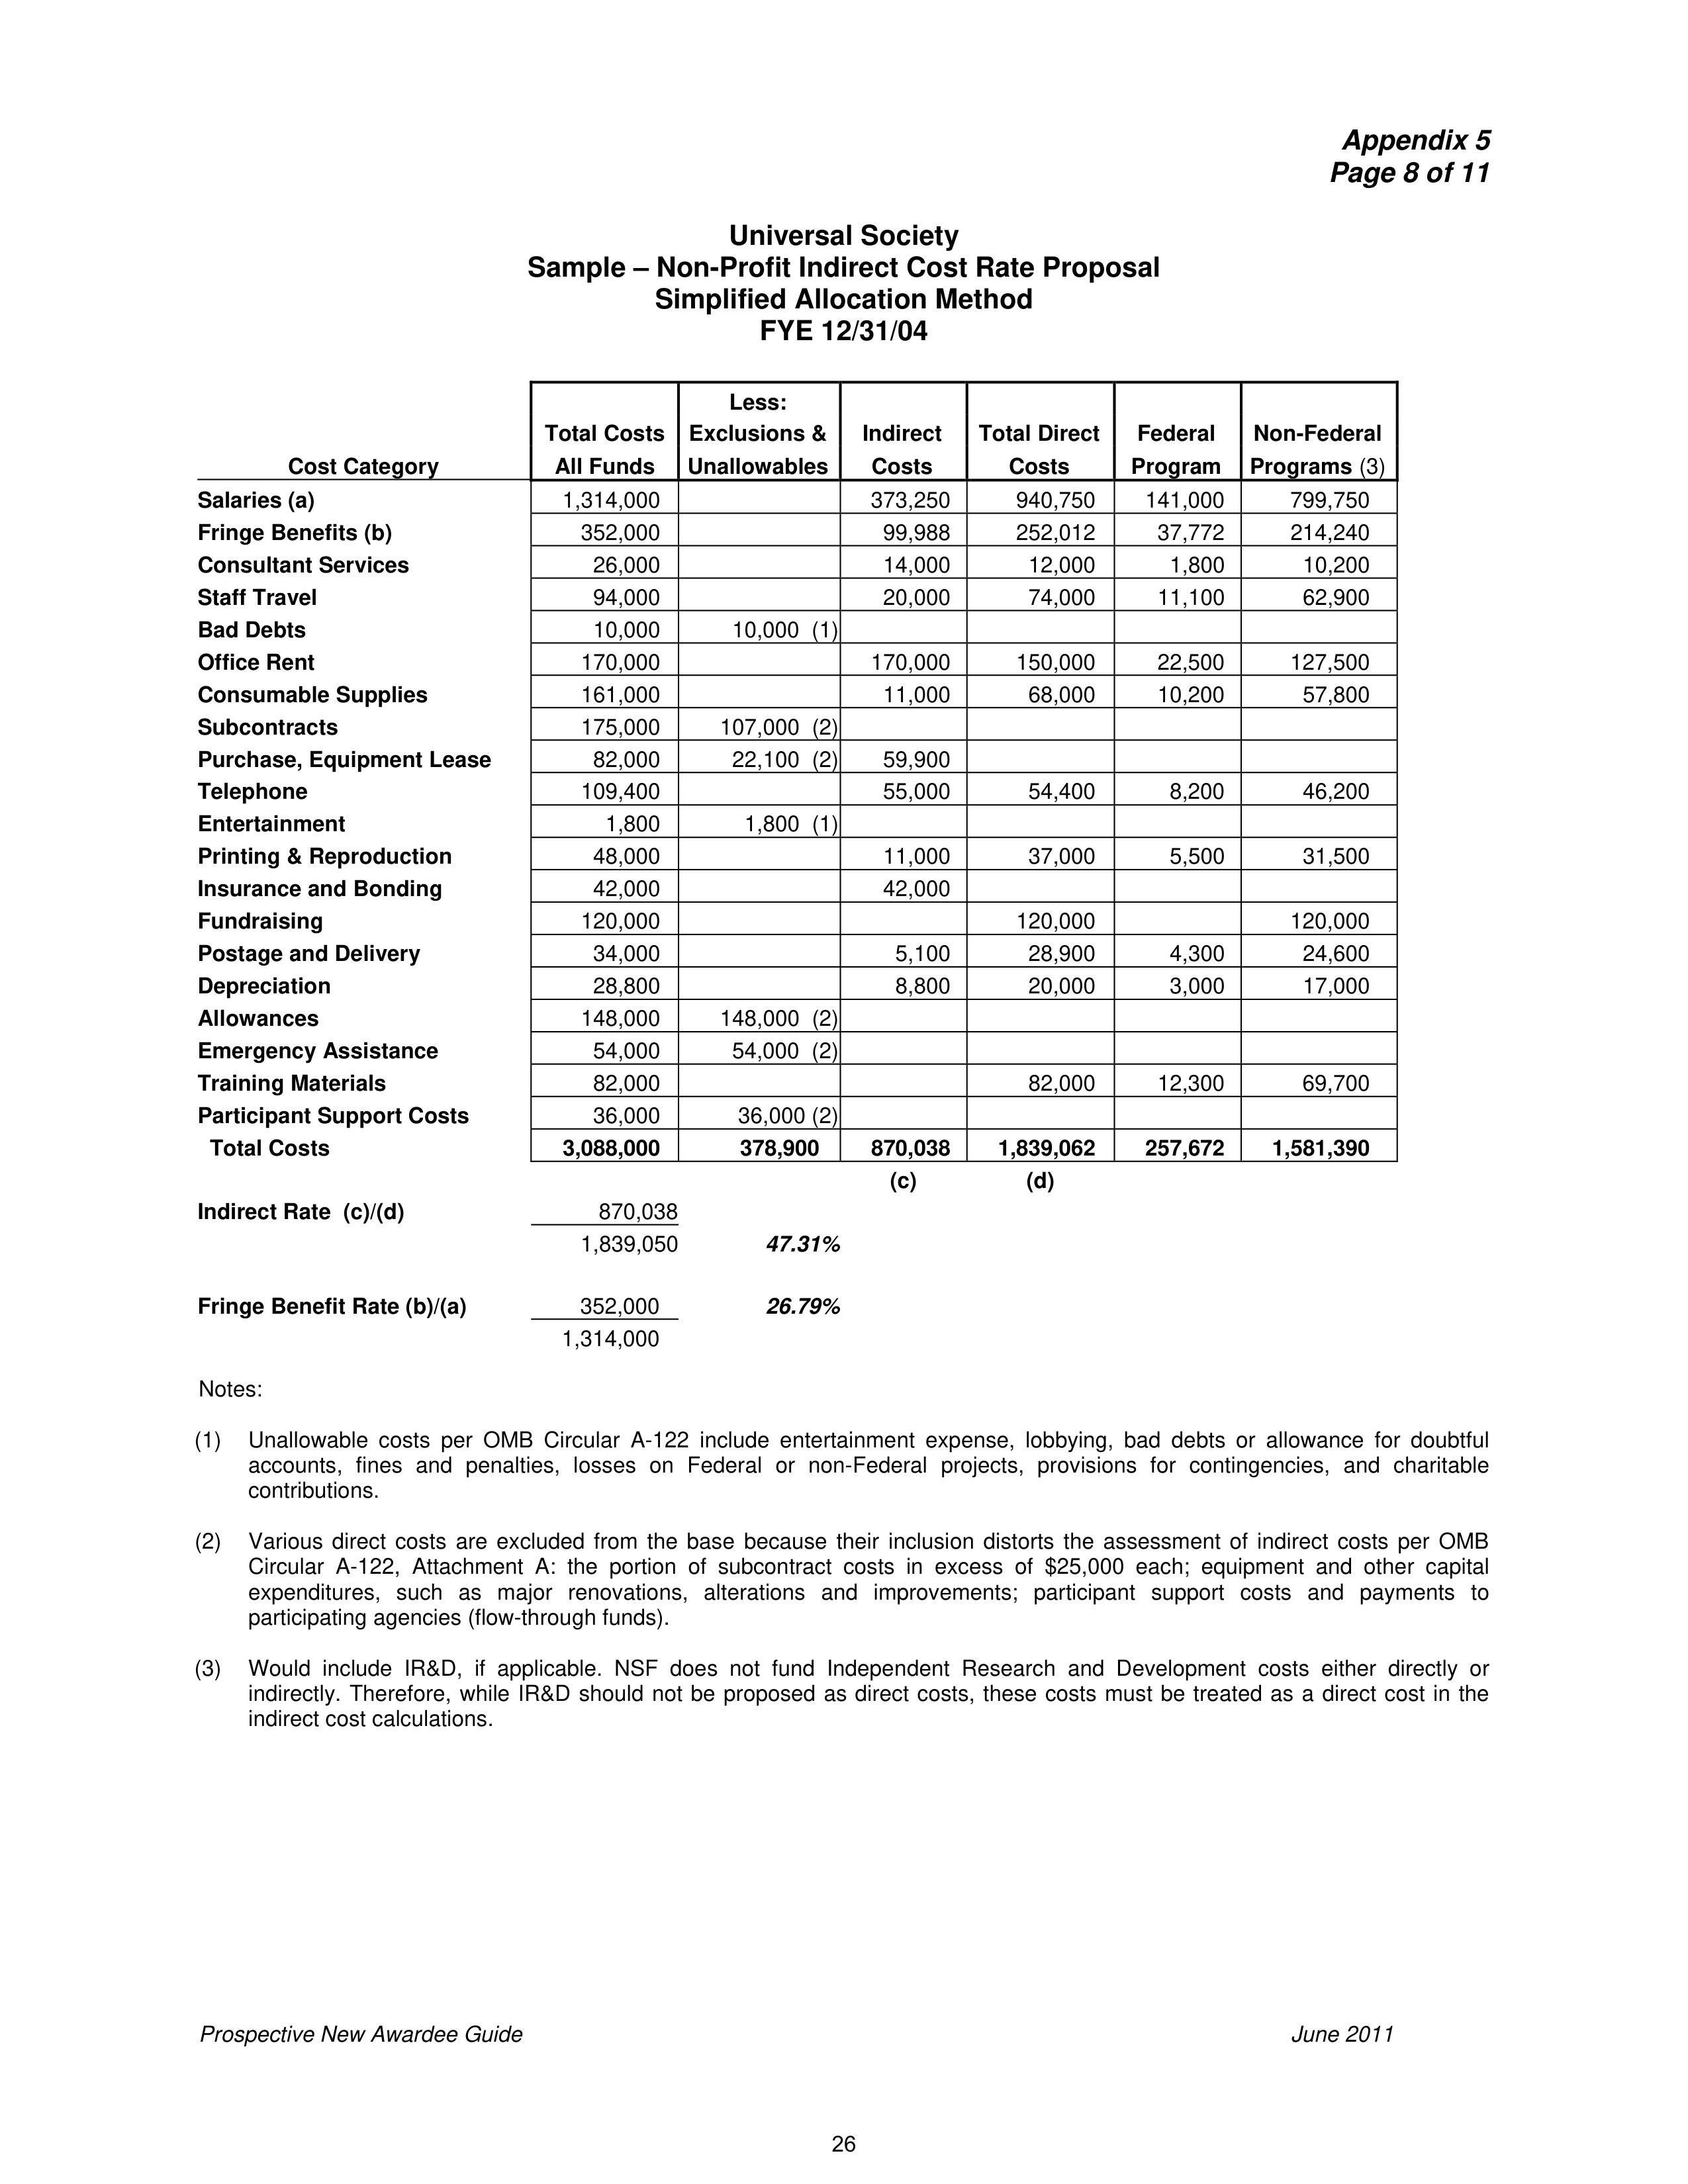table: (197, 386, 1385, 1163)
